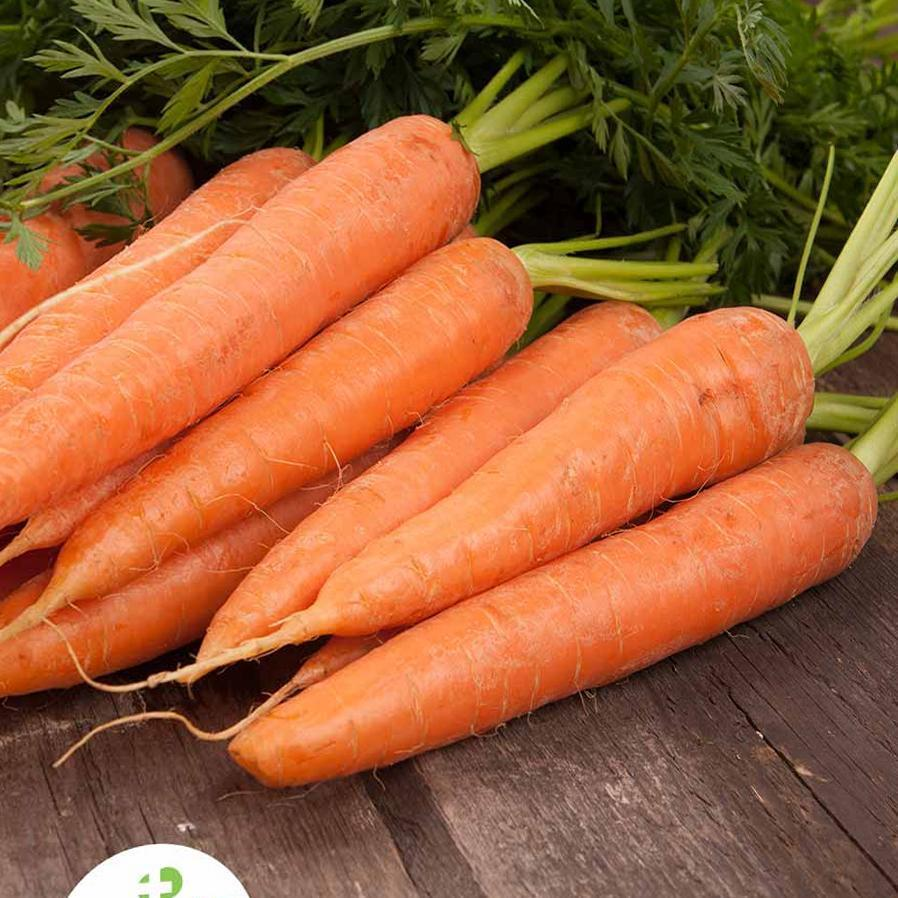carrot: (3, 97, 898, 765), (211, 251, 898, 799)
